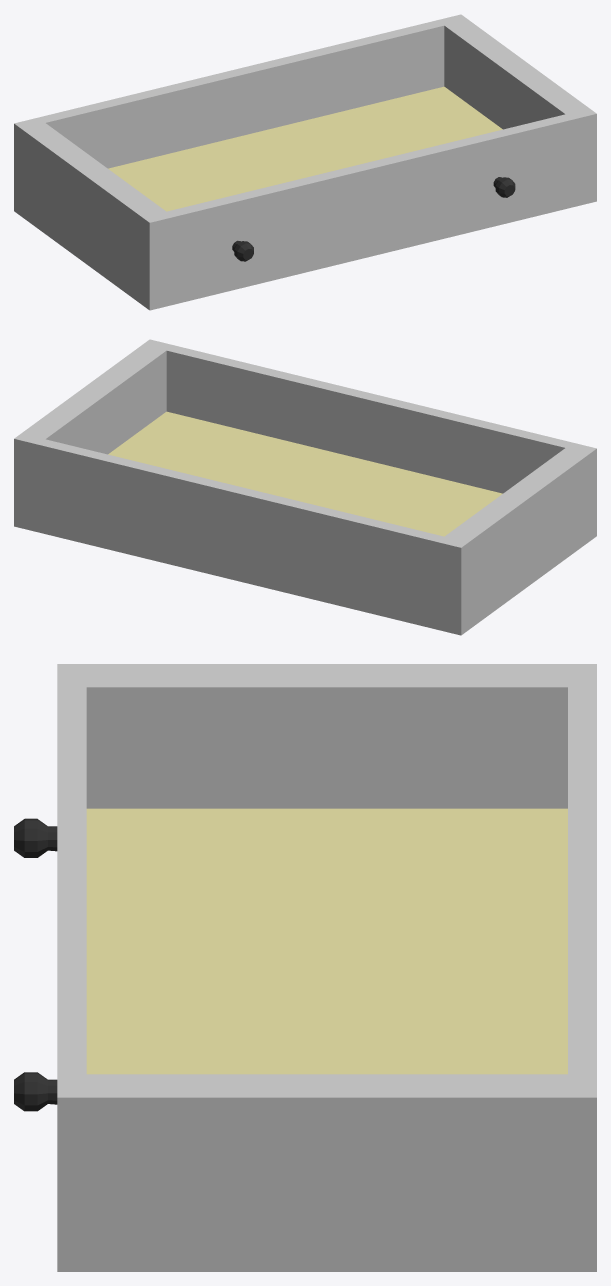
File: Drawer_Big.fbx
The picture shows the model from 3 angles, top to bottom: view 1: azimuth 30°, elevation 25°; view 2: azimuth 150°, elevation 25°; view 3: azimuth 270°, elevation 25°; orthographic projection. The views are drawn at different scales.
Parts seen in each view (by area): view 1: Kommode_Shelf_3.001; view 2: Kommode_Shelf_3.001; view 3: Kommode_Shelf_3.001.
Boxes of the visible parts, bbox=[...] form: Kommode_Shelf_3.001: bbox=[14, 14, 596, 310]; Kommode_Shelf_3.001: bbox=[14, 339, 596, 635]; Kommode_Shelf_3.001: bbox=[14, 664, 596, 1271].
Bounding box in the file's own units: 0.8213 × 0.154 × 0.4668.
